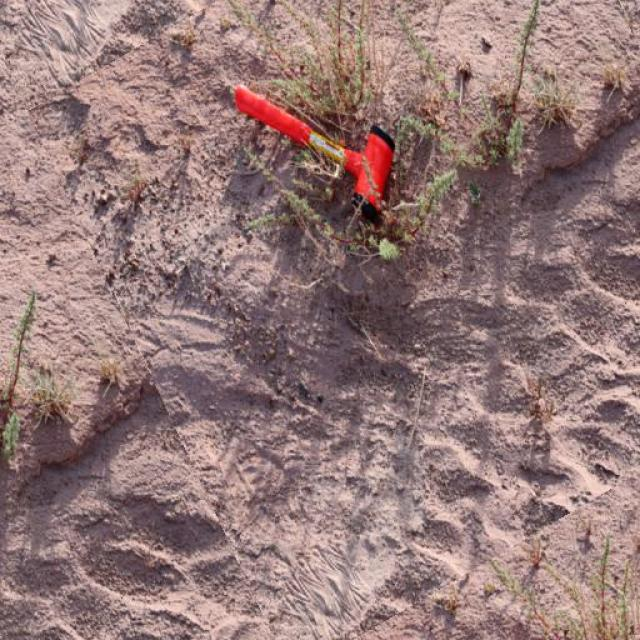mallet: (232, 81, 396, 222)
